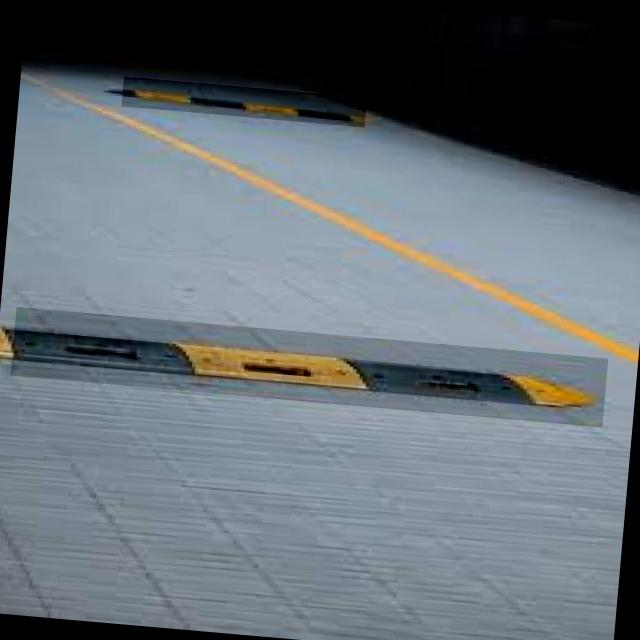bump: (11, 306, 608, 428), (121, 76, 367, 128)
